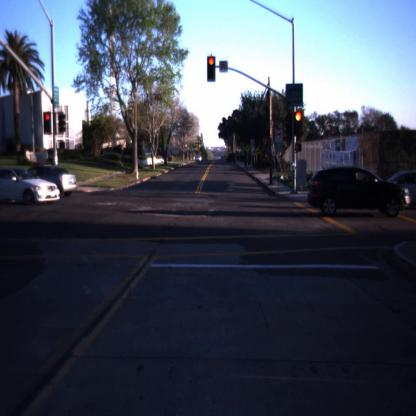trafficlight: (206, 52, 218, 84), (293, 107, 304, 139), (40, 111, 53, 136)
